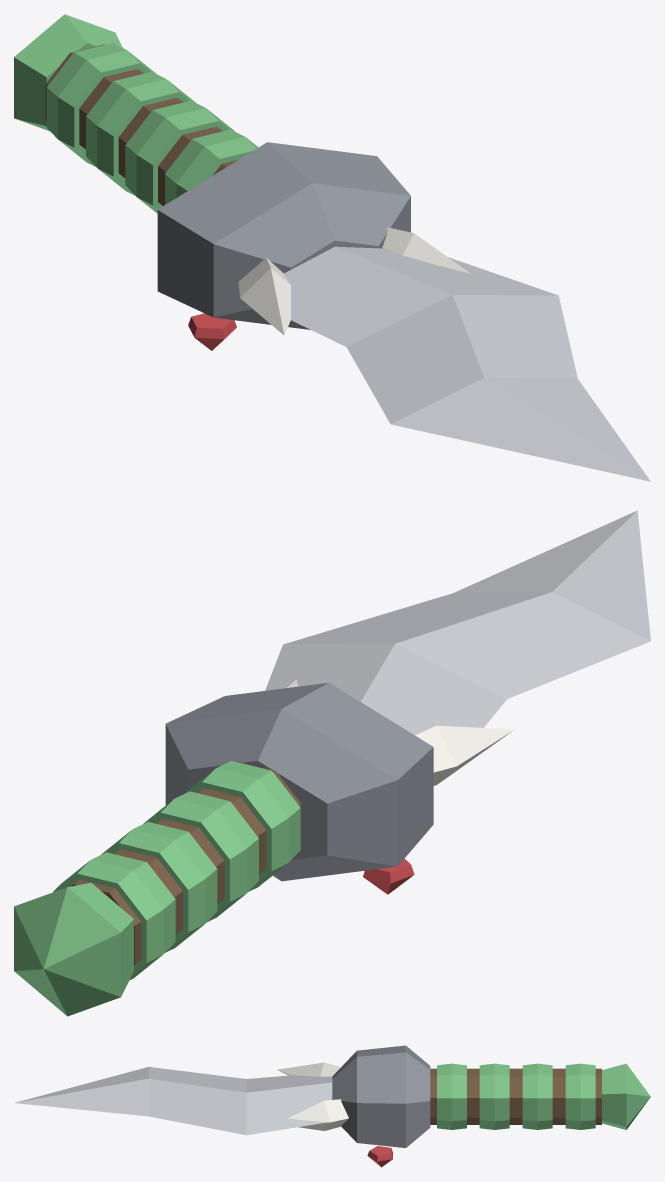
File: adderfang.glb
3 renders of one model, top to bottom at view 1: azimuth 30°, elevation 25°; view 2: azimuth 150°, elevation 25°; view 3: azimuth 270°, elevation 25°, orthographic. The views are drawn at different scales.
Visible parts, largest first — view 1: adderfang; view 2: adderfang; view 3: adderfang.
Part boxes in pixels (x1,y1,x2,y2): adderfang: (14, 14, 650, 481); adderfang: (14, 510, 650, 1016); adderfang: (15, 1045, 650, 1167).
Bounding box in the file's own units: 0.1324 × 0.085 × 0.52.
